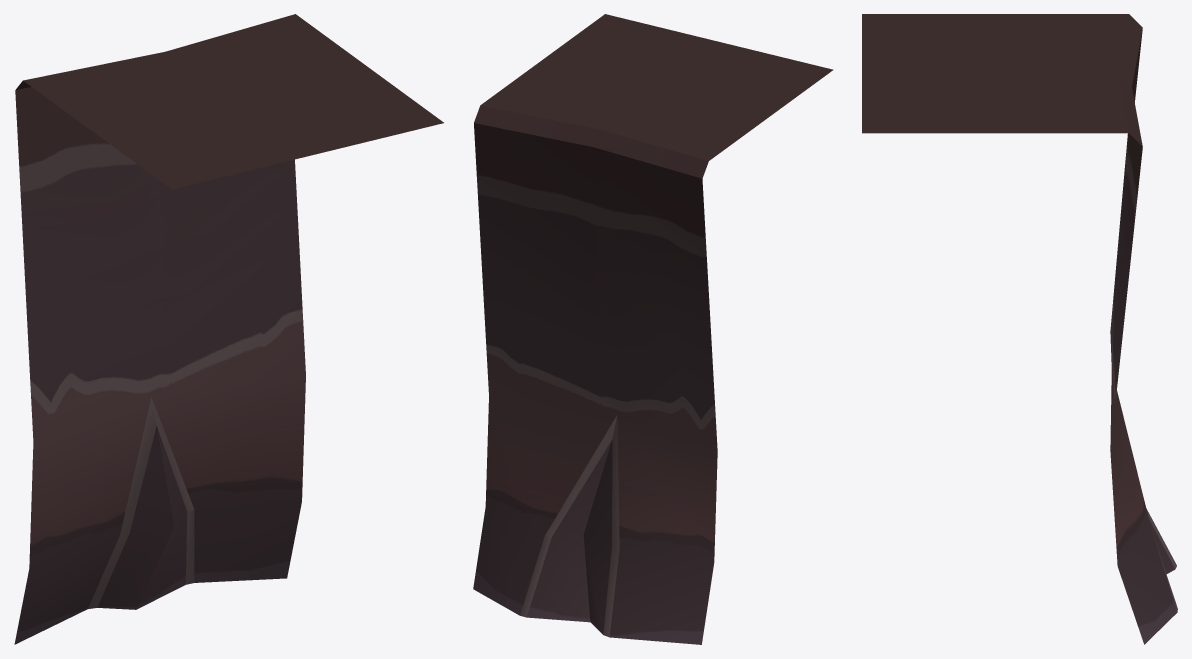
The model's file is M_Wall_02.fbx.
3 renders of one model, left to right at view 1: azimuth 30°, elevation 25°; view 2: azimuth 150°, elevation 25°; view 3: azimuth 270°, elevation 25°, orthographic. The views are drawn at different scales.
Parts seen in each view (by area): view 1: M_Walls.002; view 2: M_Walls.002; view 3: M_Walls.002.
Boxes of the visible parts, x1=… form: M_Walls.002: x1=14, y1=14, x2=443, y2=644; M_Walls.002: x1=473, y1=14, x2=833, y2=644; M_Walls.002: x1=862, y1=14, x2=1177, y2=644.
Bounding box in the file's own units: 200 × 400 × 224.
